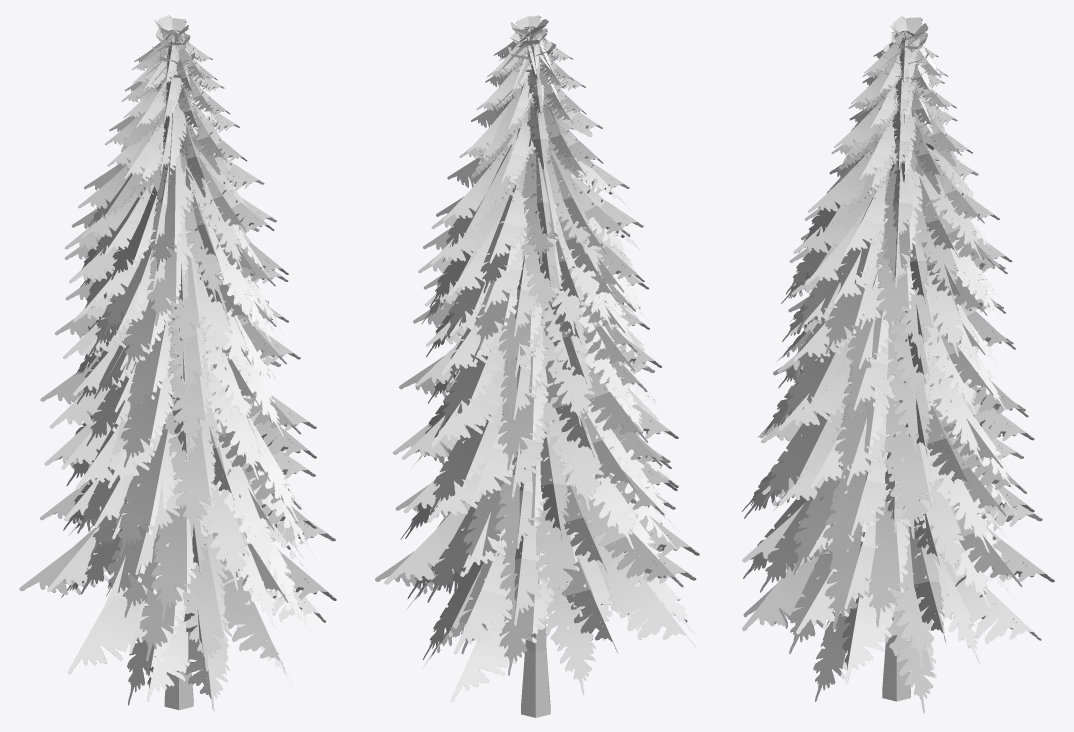
The model's file is PineTree3-LOD.fbx.
3 views of the same model, side by side, from view 1: azimuth 30°, elevation 25°; view 2: azimuth 150°, elevation 25°; view 3: azimuth 270°, elevation 25° (orthographic). The views are drawn at different scales.
Visible parts, largest first — view 1: branch_LO1, branch_LOD0, tree_LOD0; view 2: branch_LO1, branch_LOD0, tree_LOD0; view 3: branch_LO1, branch_LOD0, tree_LOD0.
Part boxes in pixels (<box>): branch_LO1: <box>59,15,325,711</box>; branch_LOD0: <box>19,30,336,655</box>; tree_LOD0: <box>159,39,193,710</box>; branch_LO1: <box>400,15,695,702</box>; branch_LOD0: <box>375,26,699,654</box>; tree_LOD0: <box>521,38,550,717</box>; branch_LO1: <box>742,16,1041,713</box>; branch_LOD0: <box>742,30,1054,644</box>; tree_LOD0: <box>882,614,910,701</box>.
Size of what is drawn, in the model's own units: 1780 by 4152 by 1818.
